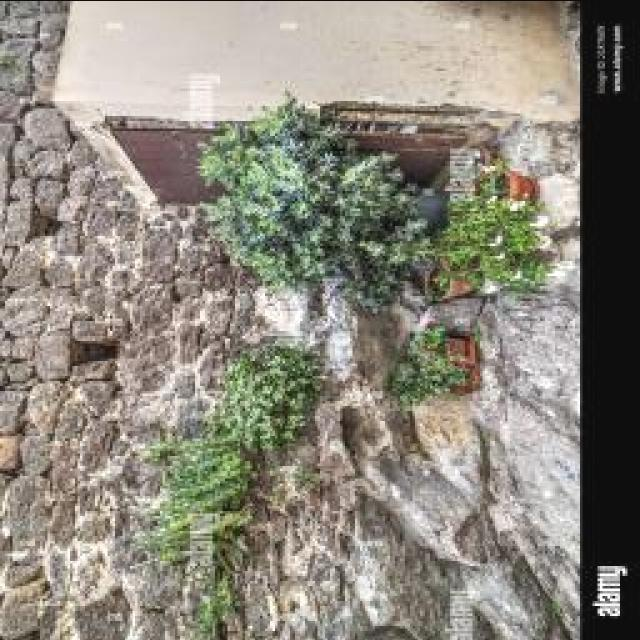Crack: (1, 2, 581, 638)
